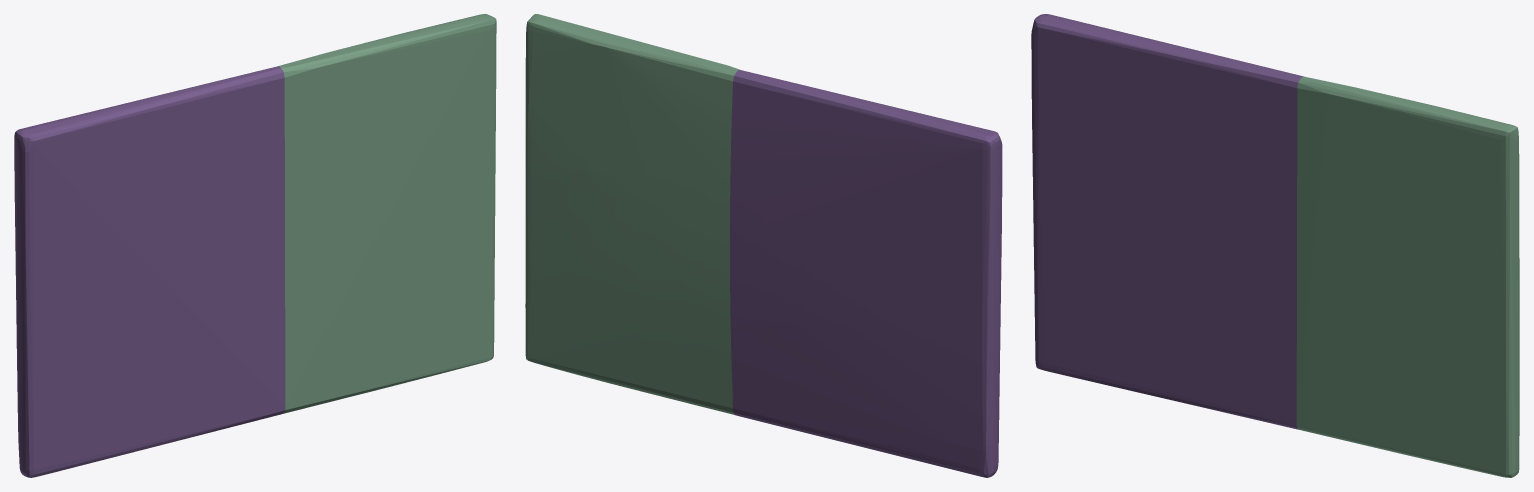
File: coacd_collision.obj
3 renders of one model, left to right at view 1: azimuth 30°, elevation 25°; view 2: azimuth 150°, elevation 25°; view 3: azimuth 330°, elevation 25°, orthographic. The views are drawn at different scales.
Visible parts, largest first — view 1: geometry_1, geometry_0; view 2: geometry_1, geometry_0; view 3: geometry_1, geometry_0.
Boxes of the visible parts, <box> form: geometry_1: <box>14,66,285,477</box>; geometry_0: <box>278,14,496,413</box>; geometry_1: <box>730,70,1002,477</box>; geometry_0: <box>525,14,739,414</box>; geometry_1: <box>1031,14,1303,429</box>; geometry_0: <box>1296,76,1519,477</box>.
Size of the model in its own units: 208 by 147 by 11.62.
